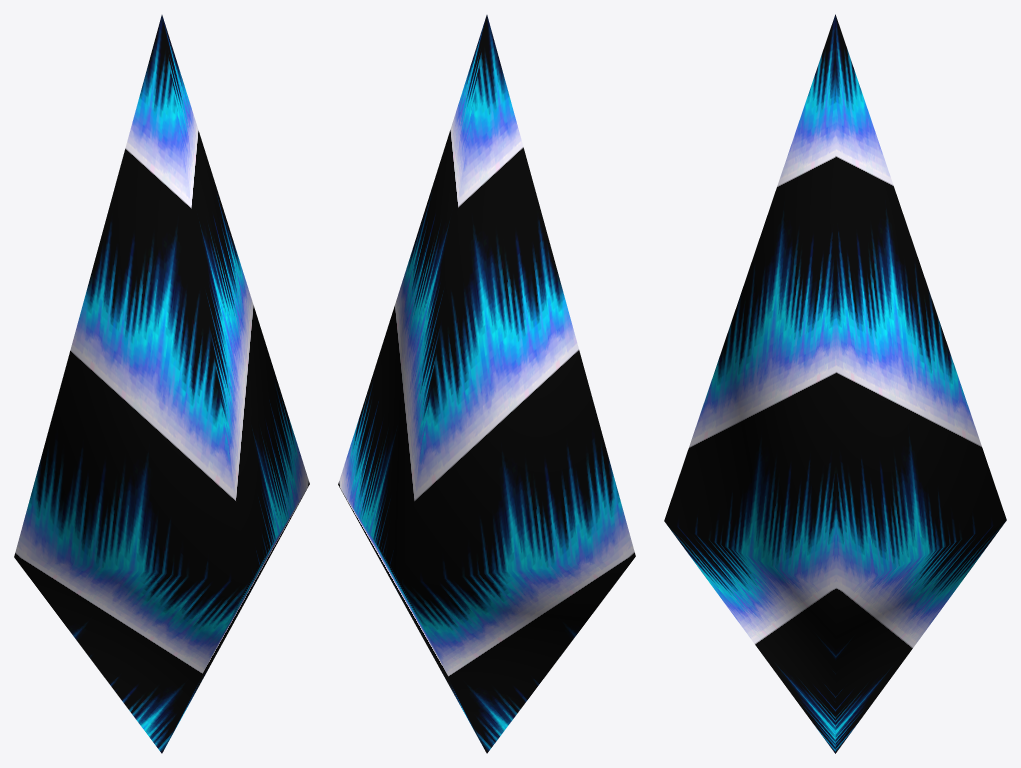
Rendered from obj_sklmagwatcasting01.glb.
The picture shows the model from 3 angles, left to right: view 1: azimuth 30°, elevation 25°; view 2: azimuth 150°, elevation 25°; view 3: azimuth 270°, elevation 25°; orthographic projection.
Parts seen in each view (by area): view 1: sfx_mesh_0; view 2: sfx_mesh_0; view 3: sfx_mesh_0.
Boxes of the visible parts, x1,y1,x2,y2 form: sfx_mesh_0: (14,15,309,753); sfx_mesh_0: (338,15,635,753); sfx_mesh_0: (664,14,1006,753).
Bounding box in the file's own units: 4.27 × 10.17 × 4.27.
Materials: 1 (1 with a texture image).
